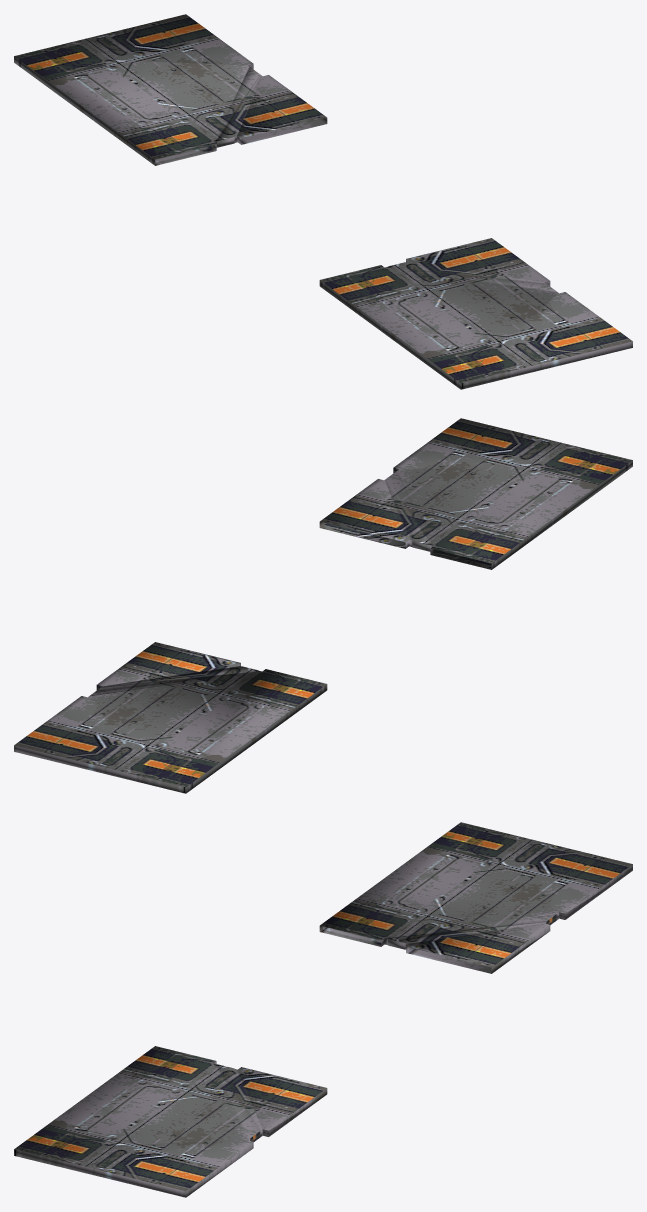
File: mothershipplate.glb
3 renders of one model, top to bottom at view 1: azimuth 30°, elevation 25°; view 2: azimuth 150°, elevation 25°; view 3: azimuth 330°, elevation 25°, orthographic.
Visible parts, largest first — view 1: Base-col.014, Base-col.015; view 2: Base-col.015, Base-col.014; view 3: Base-col.015, Base-col.014.
Part boxes in pixels (box(x1,y1,x2,y2)): Base-col.014: box(14, 14, 327, 165); Base-col.015: box(319, 238, 632, 389); Base-col.015: box(319, 418, 632, 569); Base-col.014: box(14, 642, 327, 793); Base-col.015: box(14, 1046, 327, 1197); Base-col.014: box(319, 822, 632, 973).
Bounding box in the file's own units: 13.99 × 0.5 × 62.97.
2 materials, 2 textured.
